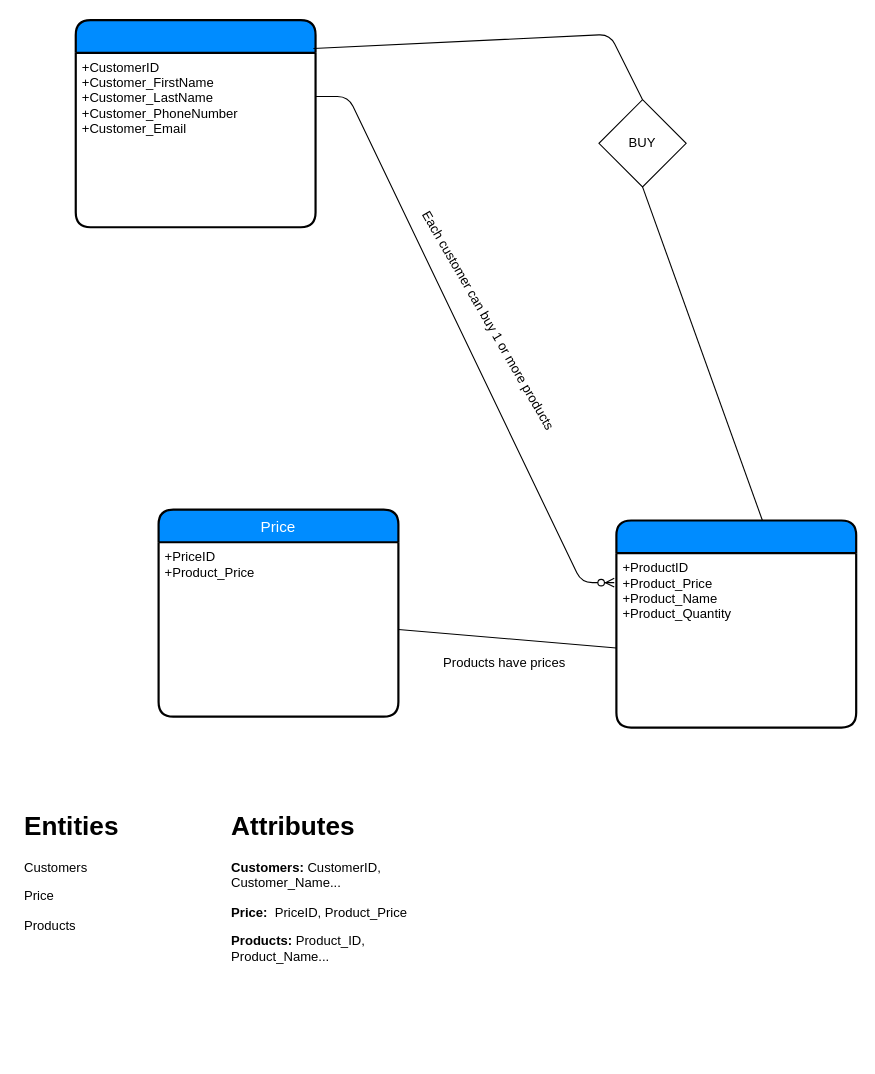
This 875x1074 diagram has some shape labels left out. The box of each missing label's shape, as (x1, y1, x2, y2) in pixels:
Customers: (74, 19, 316, 228)
Products: (615, 519, 857, 728)
